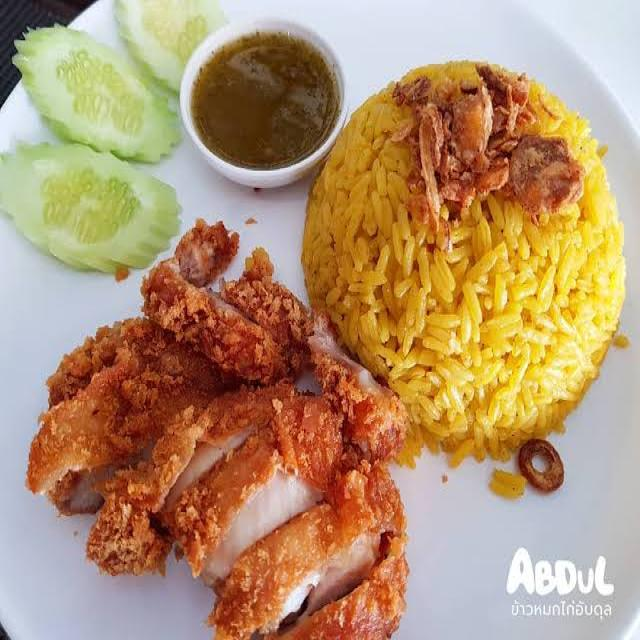carb: (342, 49, 636, 452)
chicken biryani: (108, 84, 629, 526)
meat: (79, 257, 435, 640)
